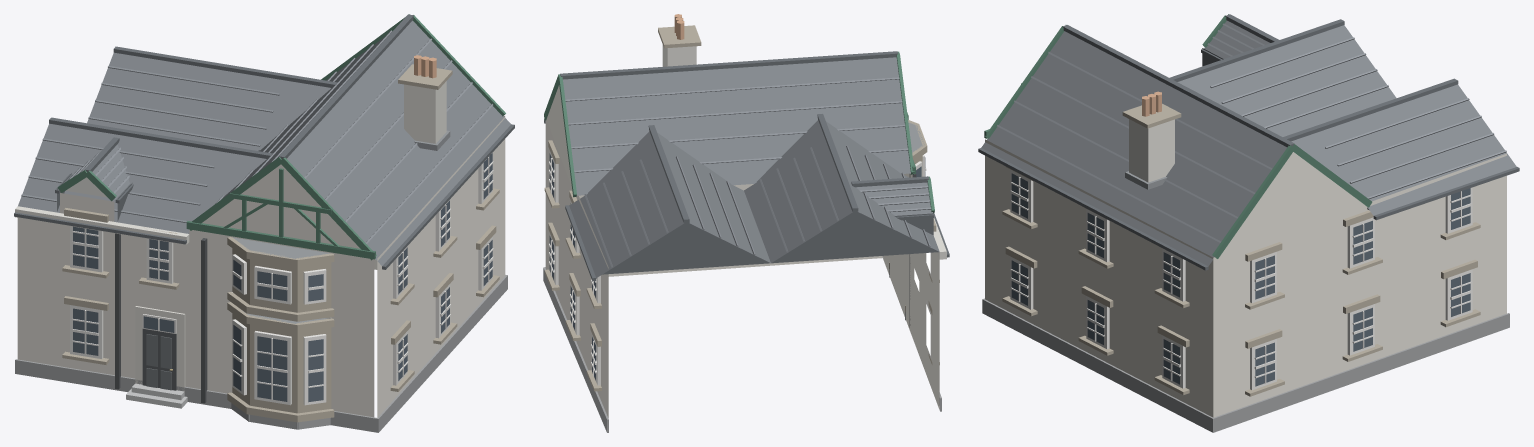
3 renders of one model, left to right at view 1: azimuth 30°, elevation 25°; view 2: azimuth 150°, elevation 25°; view 3: azimuth 270°, elevation 25°, orthographic. The views are drawn at different scales.
Visible parts, largest first — view 1: slate, harl_cream, doorcase, frame, slate_dk, door_green, slate_lt, plinth, string, chim_render, pipe, window_glass_002 (+11 smaller); view 2: slate, slate_dk, harl_cream, slate_lt, doorcase, frame, door_green, plinth, chim_render; view 3: harl_cream, slate, frame, plinth, slate_dk, doorcase, slate_lt, door_green, chim_render, window_glass_012, window_glass_011, window_glass_013 (+9 smaller).
Boxes of the visible parts, bbox=[...] form: slate: bbox=[18, 20, 511, 265]; harl_cream: bbox=[17, 116, 505, 417]; doorcase: bbox=[62, 64, 499, 422]; frame: bbox=[70, 152, 493, 405]; slate_dk: bbox=[14, 14, 514, 269]; door_green: bbox=[57, 14, 505, 260]; slate_lt: bbox=[21, 30, 492, 243]; plinth: bbox=[15, 275, 507, 432]; string: bbox=[15, 206, 189, 391]; chim_render: bbox=[404, 81, 446, 143]; pipe: bbox=[115, 233, 207, 403]; window_glass_002: bbox=[257, 336, 287, 401]; slate: bbox=[563, 57, 939, 277]; slate_dk: bbox=[544, 51, 949, 280]; harl_cream: bbox=[545, 85, 939, 417]; slate_lt: bbox=[565, 77, 931, 268]; doorcase: bbox=[544, 25, 939, 391]; frame: bbox=[548, 151, 931, 385]; door_green: bbox=[544, 51, 934, 213]; plinth: bbox=[543, 256, 941, 432]; chim_render: bbox=[662, 45, 696, 66]; harl_cream: bbox=[985, 139, 1506, 417]; slate: bbox=[981, 20, 1516, 266]; frame: bbox=[1010, 169, 1472, 390]; plinth: bbox=[982, 298, 1509, 432]; slate_dk: bbox=[978, 14, 1519, 270]; doorcase: bbox=[1002, 103, 1480, 396]; slate_lt: bbox=[997, 23, 1506, 242]; door_green: bbox=[984, 14, 1372, 258]; chim_render: bbox=[1129, 119, 1174, 182]; window_glass_012: bbox=[1255, 255, 1274, 299]; window_glass_011: bbox=[1255, 342, 1274, 386]; window_glass_013: bbox=[1353, 307, 1372, 351].
Bounding box in the file's own units: 15.69 × 9.07 × 15.79.
